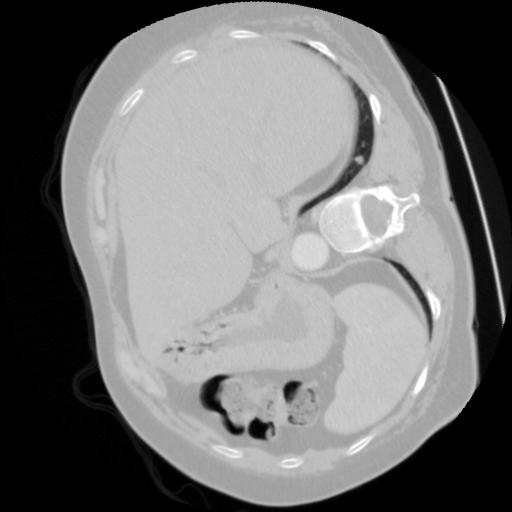nodule: (351, 151, 367, 167)
